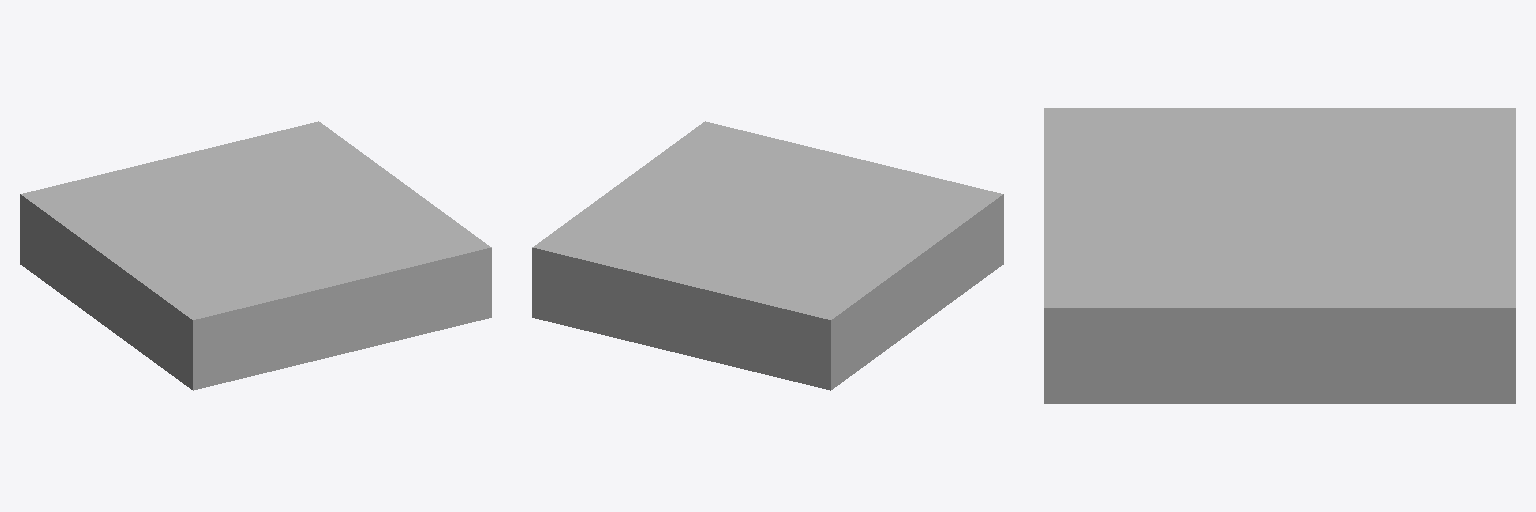
robot.urdf — block:
<?xml version="1.0" ?>
<!-- =================================================================================== -->
<!-- |    This document was autogenerated by xacro from block.urdf.xacro               | -->
<!-- |    EDITING THIS FILE BY HAND IS NOT RECOMMENDED                                 | -->
<!-- =================================================================================== -->
<!-- This URDF was automatically created by SolidWorks to URDF Exporter! Originally created by [author] ([email redacted])
     Commit Version: 1.6.0-1-g15f4949  Build Version: 1.6.7594.29634
     For more information, please see http://wiki.ros.org/sw_urdf_exporter -->
<robot name="block">
  <link name="base_link">
    <inertial>
      <origin rpy="0 0 0" xyz="0 0 0"/>
      <mass value="0.5"/>
      <inertia ixx="1e-3" ixy="0" ixz="0" iyy="1e-3" iyz="0" izz="1e-3"/>
    </inertial>
    <visual>
      <origin rpy="0 0 0" xyz="0 0 0.037000000000000005"/>
      <geometry>
        <box size="0.32 0.32 0.07200000000000001"/>
      </geometry>
      <material name="">
        <color rgba="0.752941176470588 0.752941176470588 0.752941176470588 1"/>
      </material>
    </visual>
    <collision>
      <origin rpy="0 0 0" xyz="0 0 0.004"/>
      <geometry>
        <box size="0.32 0.32 0.07200000000000001"/>
      </geometry>
    </collision>
  </link>
</robot>

--- What the picture shows (computed from the rendered views, not written in the file) ---
The picture shows the robot from 3 angles, left to right: view 1: azimuth 30°, elevation 25°; view 2: azimuth 150°, elevation 25°; view 3: azimuth 270°, elevation 25°; orthographic projection.
Robot: block — 1 links, 0 joints (none); root link base_link; default pose: all joints at 0.
Links seen in each view (by area): view 1: base_link; view 2: base_link; view 3: base_link.
Link boxes in pixels (x1,y1,x2,y2): base_link: (20,121,491,390); base_link: (532,121,1003,390); base_link: (1044,108,1515,403).
Size in the robot's own frame: 0.32 by 0.32 by 0.072 metres.
Geometry: primitives only (box / cylinder / sphere), no mesh files.
